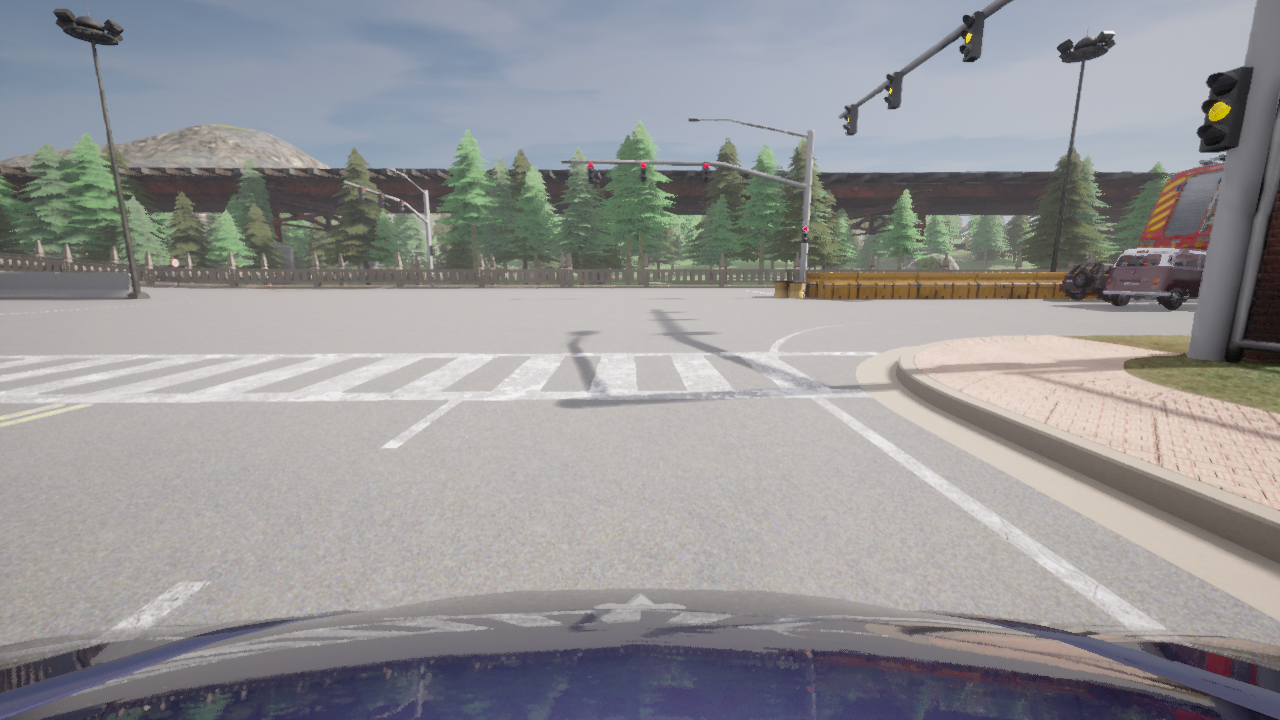cyclist: (0, 588, 1279, 719), (1136, 155, 1225, 250), (1103, 247, 1207, 309), (1059, 261, 1187, 301), (1114, 259, 1116, 260)
pedestrian: (217, 264, 228, 285), (865, 265, 868, 268)
